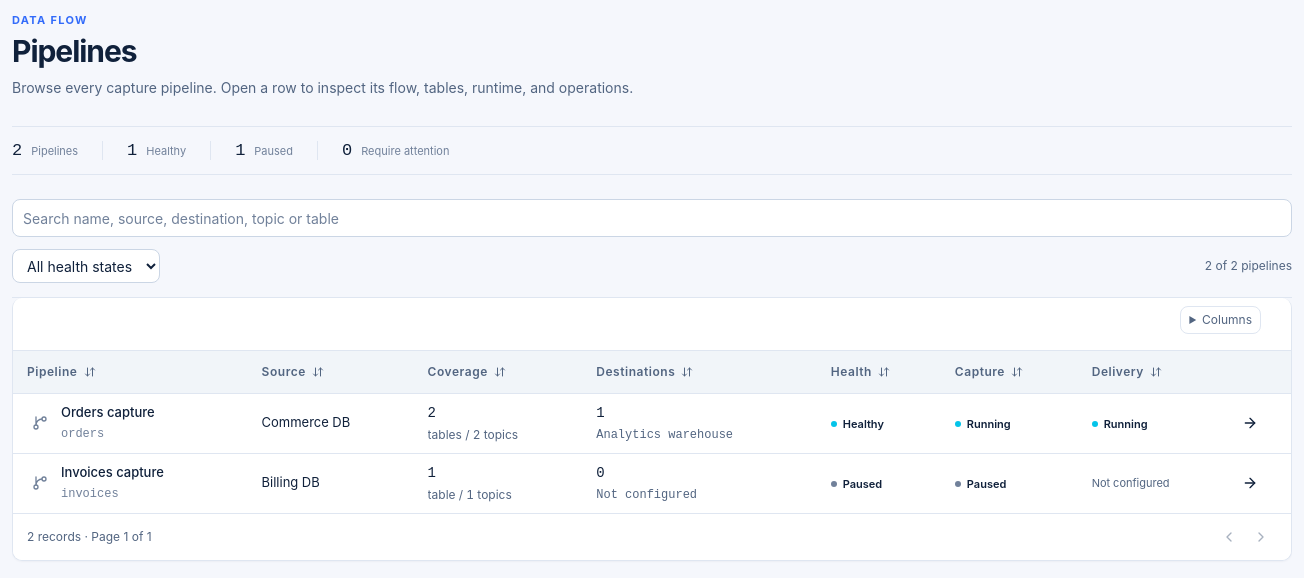
Scenario: pipeline inventory › filters the inventory without exposing detail panels
Type "Billing" into the field named "Search pipelines" at {"x": 652, "y": 218}, box top-left (12, 199), bottom-right (1292, 237)
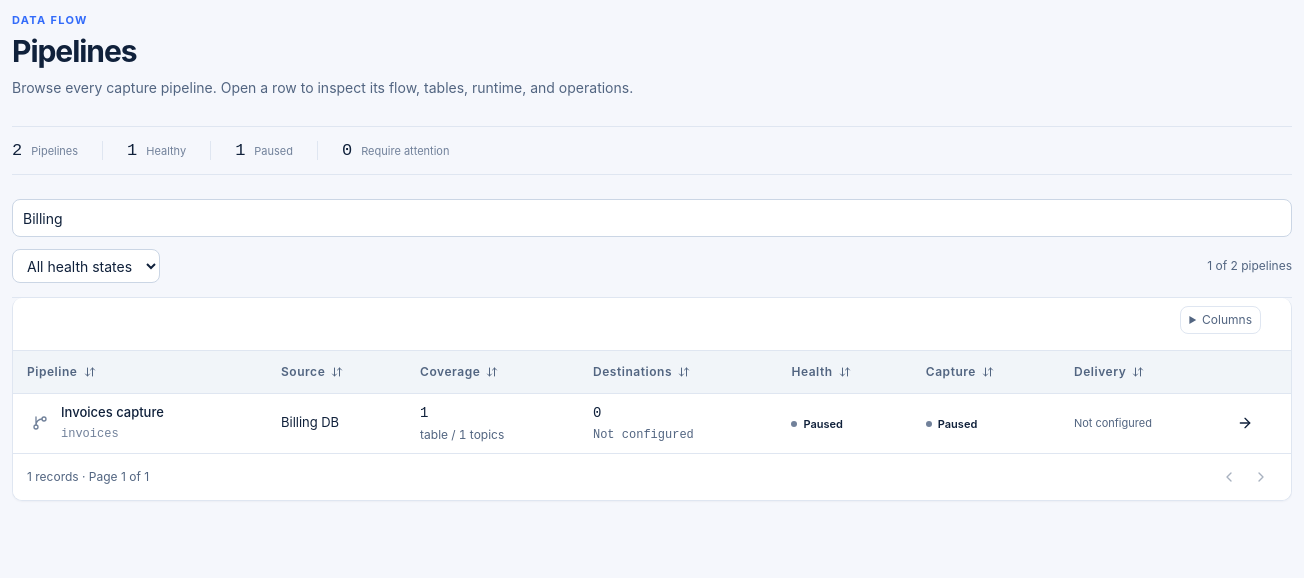
Check: the text "Invoices capture" is shown, box top-left (61, 404), bottom-right (164, 420)
Check: the link "Orders capture" is gone
Check: the text "1 of 2 pipelines" is shown, box top-left (1207, 257), bottom-right (1292, 275)
